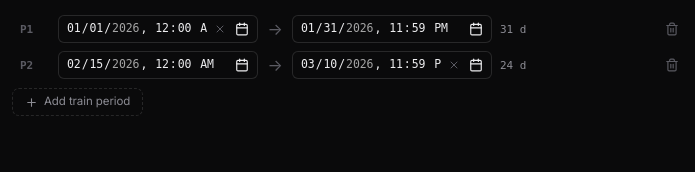
TimePeriodsEditor — adding and committing › clearing P1 start (or the last end) by typing never opens the bound: blur and Enter put the date back; only the × opens it
Clear the field named "P1 start" at point(133, 29), box [59, 16, 207, 42]
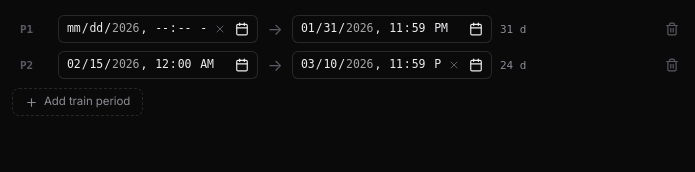
Leave the field named "P1 start", box [59, 16, 207, 42]
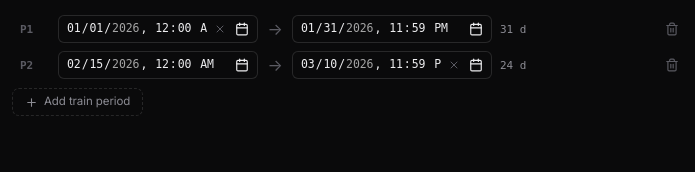
Check: the field named "P1 start" holds "2026-01-01T00:00", box [59, 16, 207, 42]
Clear the field named "P2 end" at point(367, 65), box [293, 52, 441, 78]
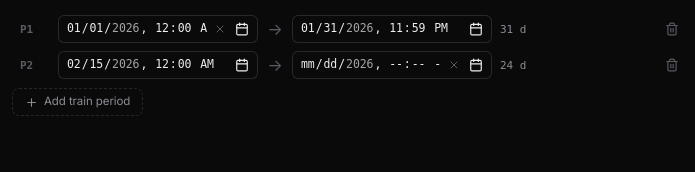
Press Enter in the field named "P2 end", box [293, 52, 441, 78]
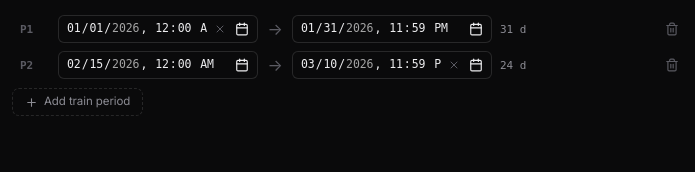
Check: the field named "P2 end" holds "2026-03-10T23:59", box [293, 52, 441, 78]
the explicit action still works
Click the button with test id "period-open-toggle-start".
click(220, 29)  # box [211, 21, 229, 37]
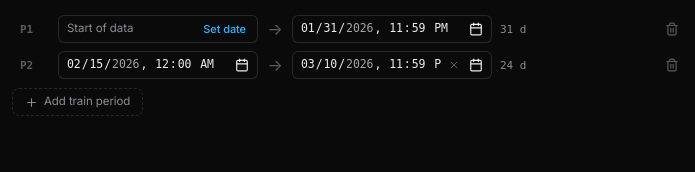
Check: the element with test id "period-open-start" shows "Start of data", box [67, 21, 133, 35]
